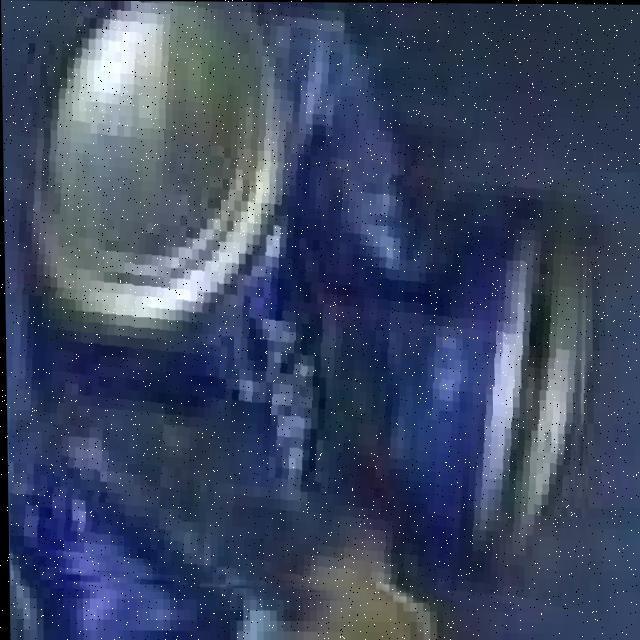can: (5, 0, 583, 607)
